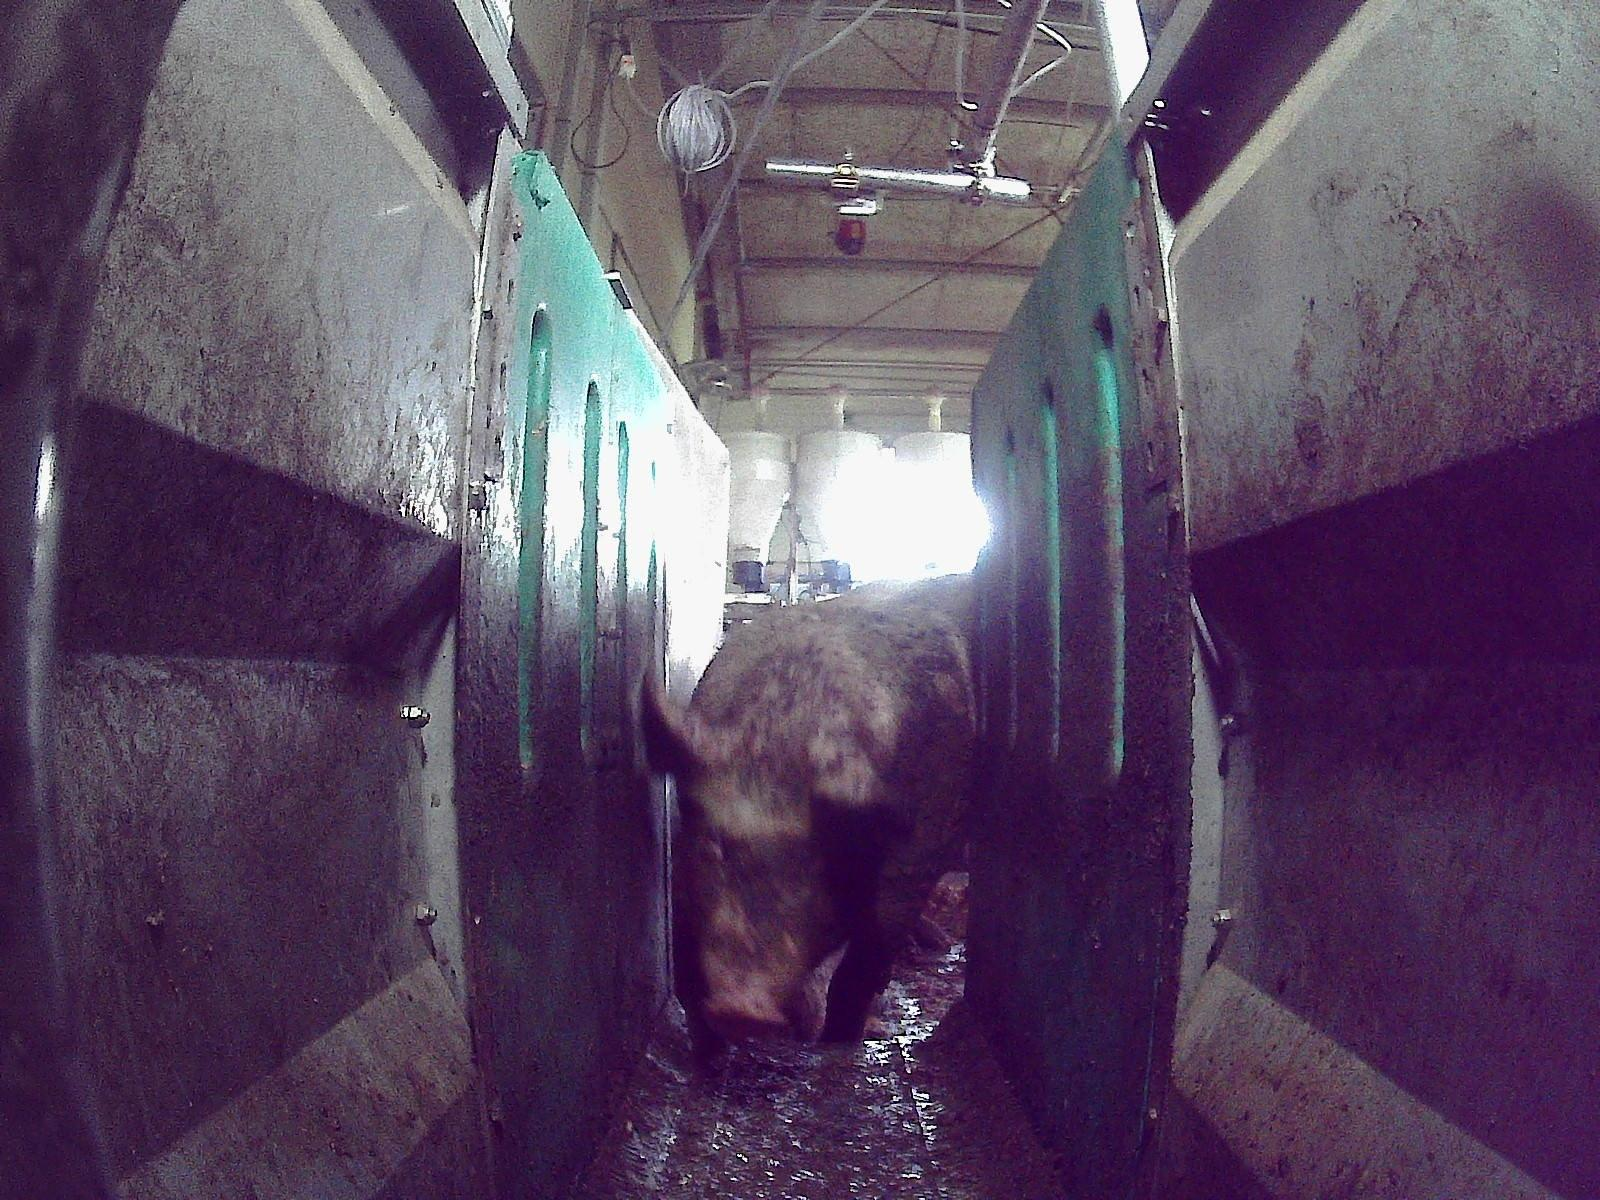Face: (671, 775, 842, 1033)
